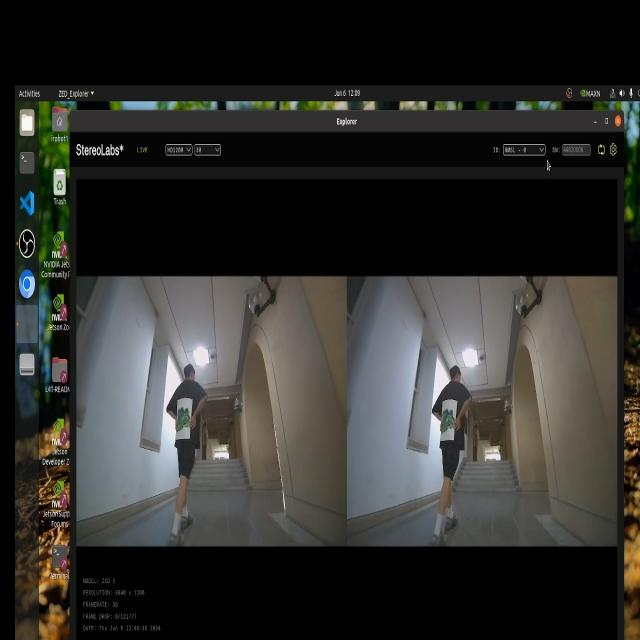green: (439, 406, 462, 437), (178, 399, 191, 434)
